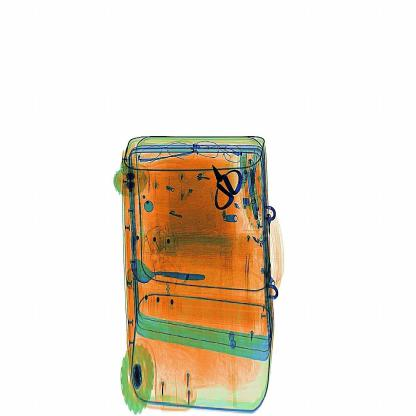gun: (206, 148, 248, 218)
